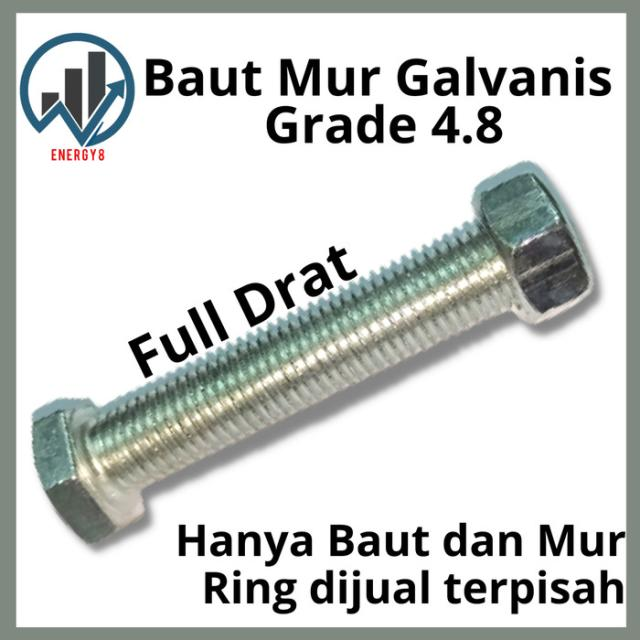Logam: (29, 199, 608, 556)
